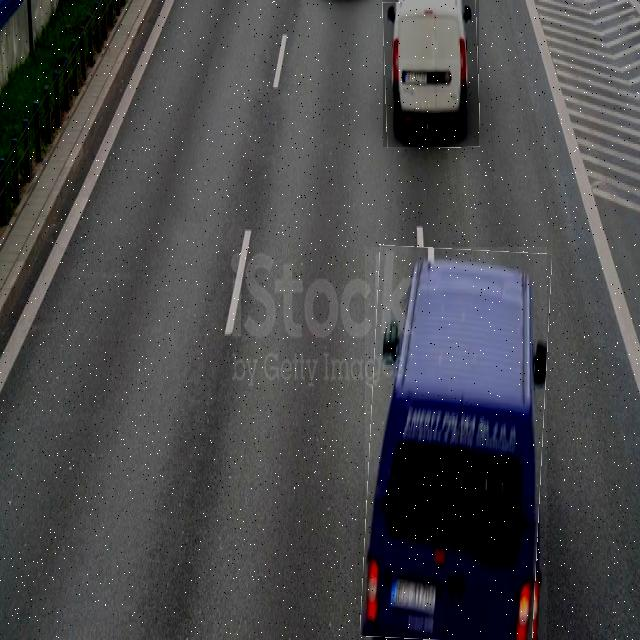Truck: (365, 247, 547, 640), (383, 0, 479, 147)
